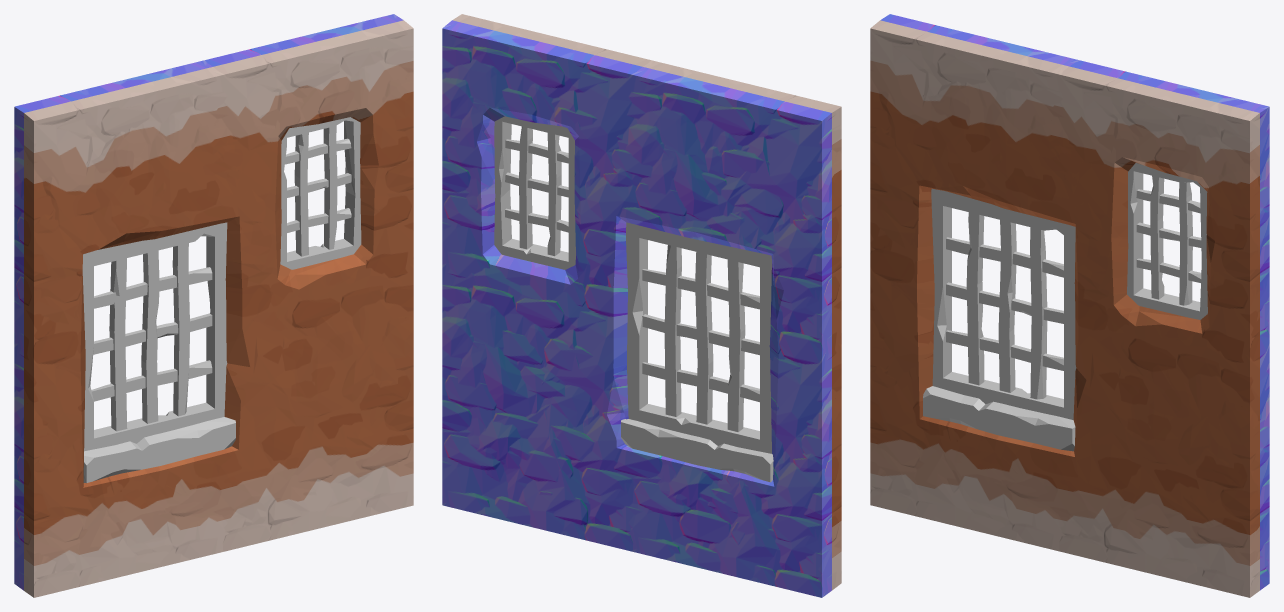
Rendered from SM_Bld_Wall_Window_02.fbx.
3 views of the same model, side by side, from view 1: azimuth 30°, elevation 25°; view 2: azimuth 150°, elevation 25°; view 3: azimuth 330°, elevation 25° (orthographic).
Visible parts, largest first — view 1: SM_Bld_Wall_Window_02; view 2: SM_Bld_Wall_Window_02; view 3: SM_Bld_Wall_Window_02.
Part boxes in pixels (bbox=[...]): SM_Bld_Wall_Window_02: bbox=[14, 14, 413, 597]; SM_Bld_Wall_Window_02: bbox=[442, 14, 841, 597]; SM_Bld_Wall_Window_02: bbox=[870, 14, 1269, 597].
Bounding box in the file's own units: 250 × 301 × 22.5.
